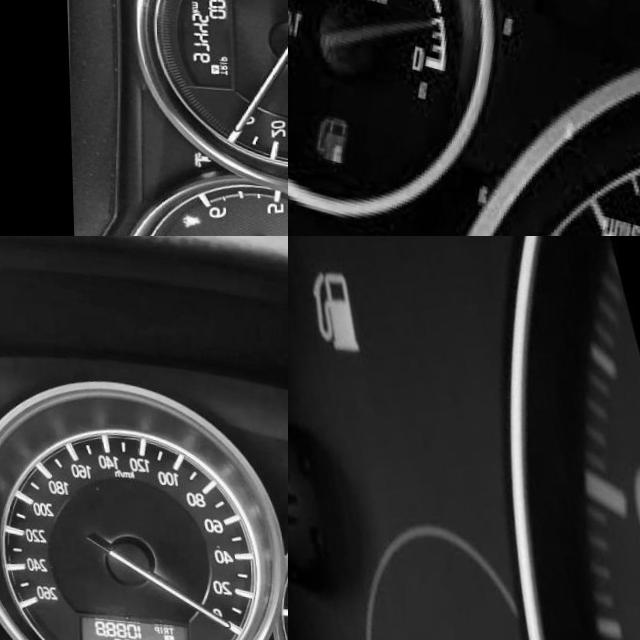Seat Belt: (179, 204, 199, 228)
